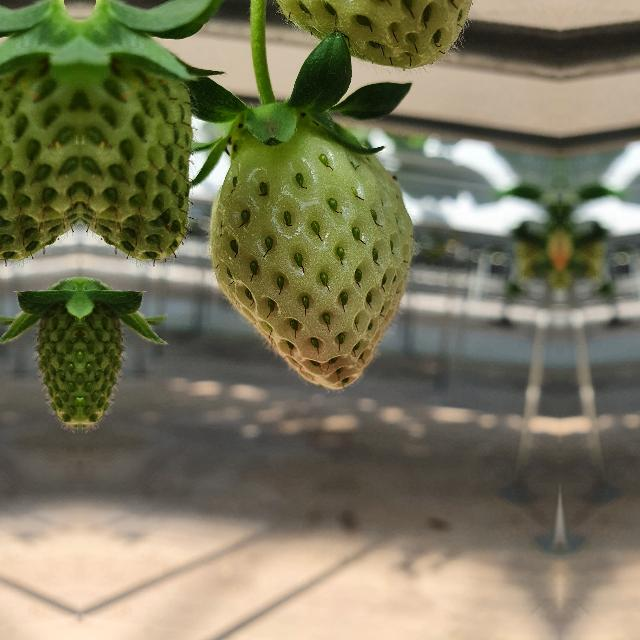Health_25: (210, 118, 412, 388)
